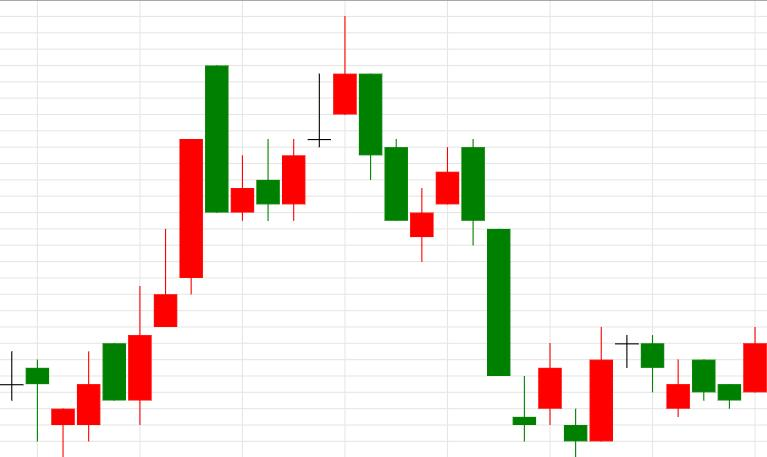shooting_star_fall: (51, 229, 178, 456), (231, 16, 357, 223)
